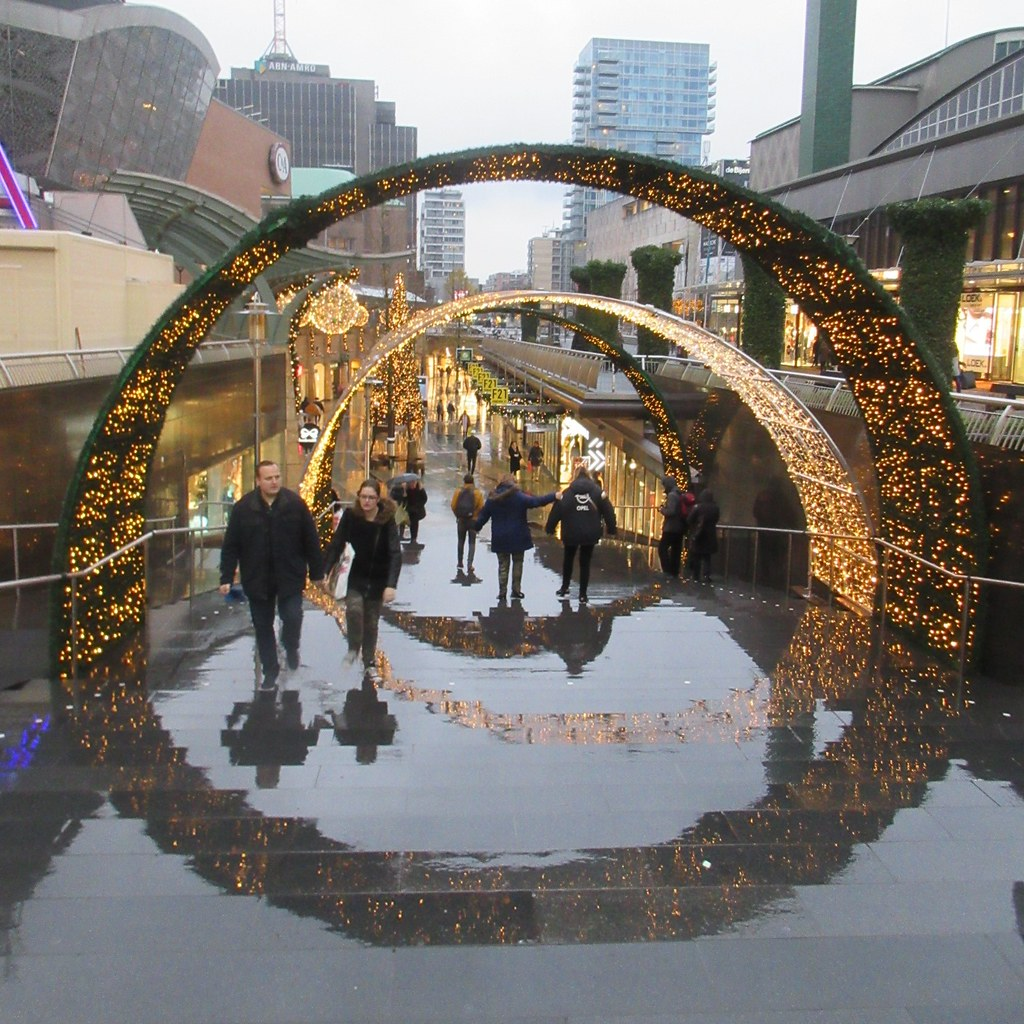person: (216, 419, 327, 670), (334, 459, 424, 659)
